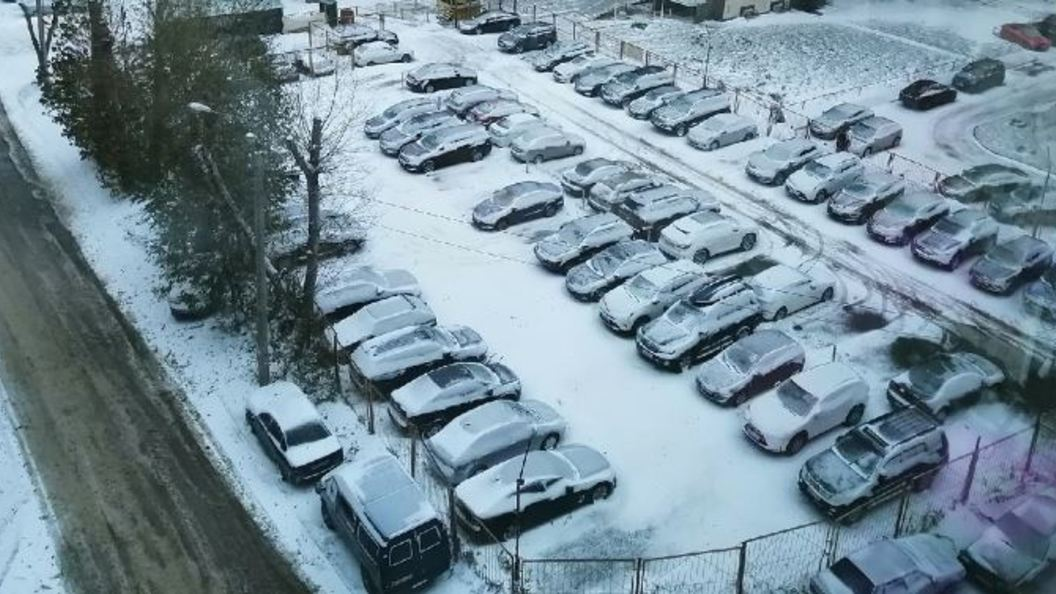Car: (315, 453, 451, 594), (797, 408, 950, 526), (455, 441, 617, 542), (635, 274, 761, 373), (425, 398, 566, 485), (743, 362, 870, 455), (387, 361, 522, 440), (245, 381, 345, 484), (959, 489, 1056, 594), (348, 325, 488, 396), (808, 533, 966, 594), (694, 327, 807, 407), (598, 260, 710, 335), (886, 352, 1007, 420), (564, 239, 667, 303), (332, 293, 437, 354), (534, 212, 636, 274), (313, 266, 422, 324), (616, 184, 720, 240), (910, 208, 998, 271), (657, 211, 760, 264), (749, 261, 837, 320), (969, 234, 1053, 294), (471, 180, 565, 232), (866, 189, 951, 245), (398, 123, 493, 173), (826, 170, 906, 224), (784, 151, 864, 203), (651, 88, 732, 136), (379, 110, 461, 157), (745, 138, 824, 185), (938, 164, 1032, 203), (587, 170, 668, 211), (600, 64, 674, 108), (364, 96, 441, 138), (561, 158, 639, 196), (685, 113, 759, 151), (509, 127, 587, 163), (988, 184, 1056, 224), (488, 113, 562, 148), (808, 102, 876, 140), (446, 85, 519, 120), (1021, 256, 1056, 324), (847, 116, 903, 158), (404, 62, 478, 93), (574, 62, 639, 96), (951, 57, 1006, 94), (627, 85, 685, 119), (552, 53, 615, 84), (465, 99, 540, 125), (497, 22, 557, 54), (328, 24, 399, 51), (532, 41, 595, 71), (898, 79, 957, 111), (351, 40, 415, 67), (997, 22, 1052, 52), (459, 11, 522, 35), (294, 49, 336, 77), (167, 289, 191, 319), (1034, 14, 1056, 45)
